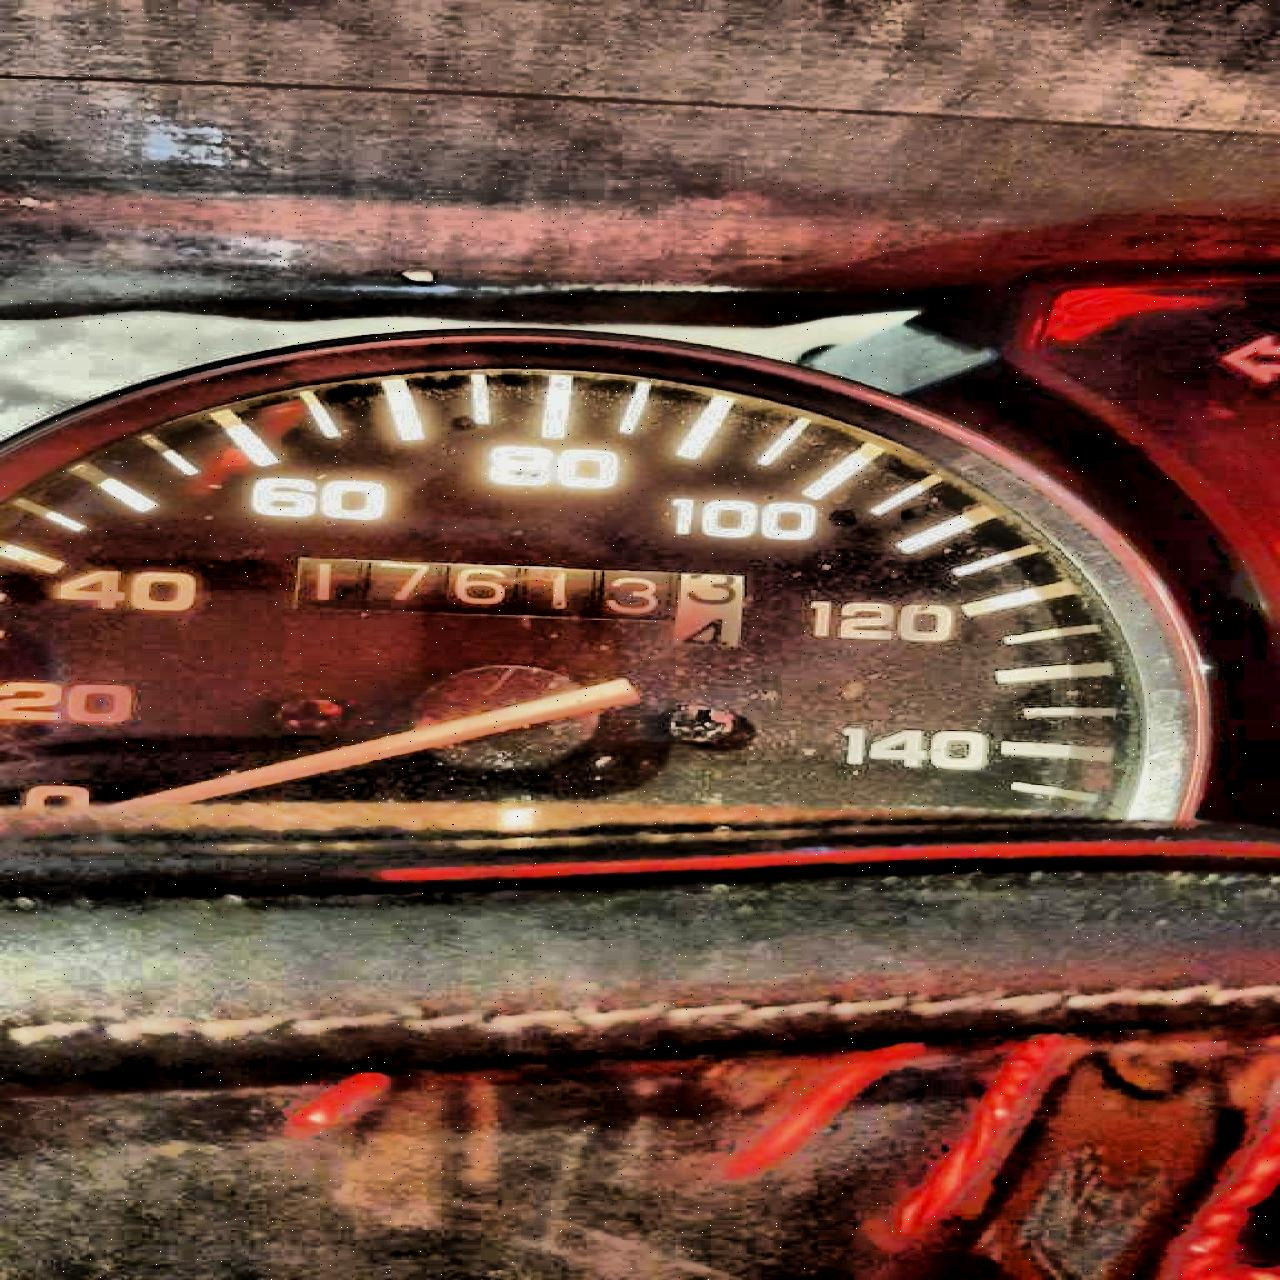1: (533, 567, 578, 612), (307, 560, 340, 602)
3: (595, 573, 660, 615), (678, 570, 740, 606)
4: (673, 613, 731, 647)
6: (449, 564, 509, 606)
7: (369, 558, 431, 602)
odometer: (286, 554, 744, 647)
